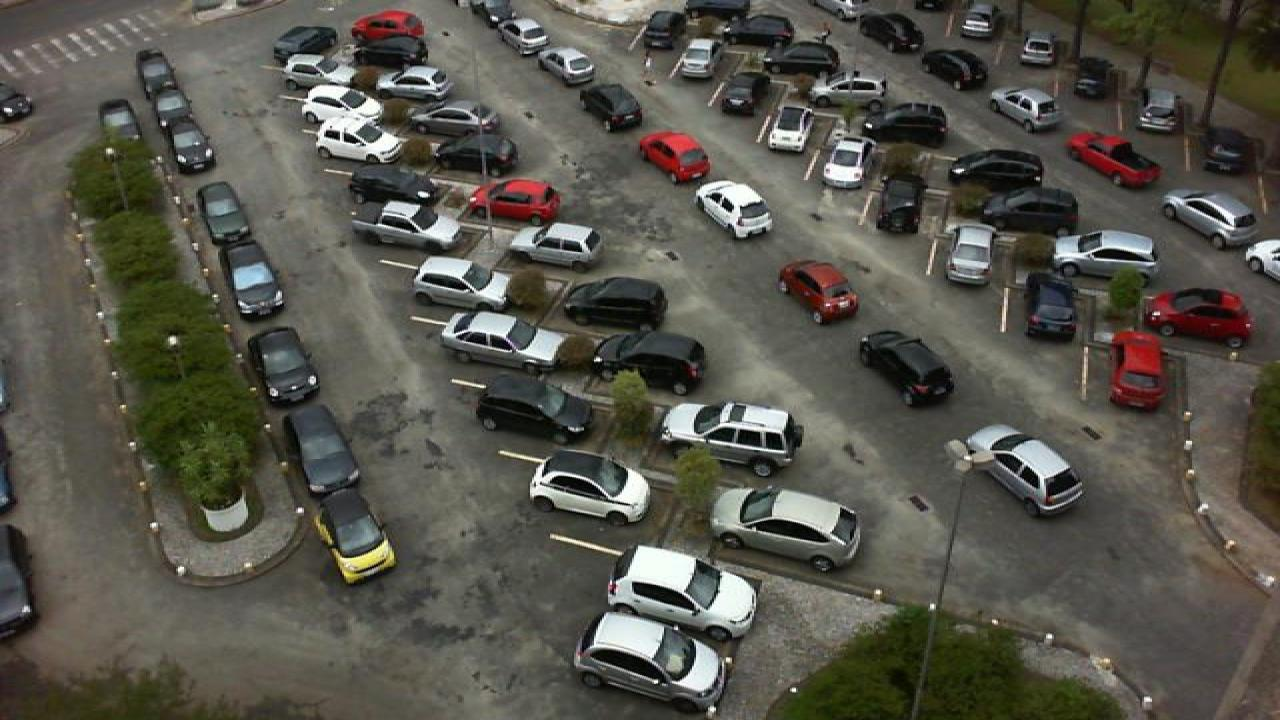Car: (572, 611, 730, 712), (604, 544, 760, 644), (708, 483, 862, 572), (964, 423, 1086, 517), (658, 402, 804, 476), (528, 450, 650, 525), (474, 374, 598, 446), (316, 487, 398, 585), (856, 328, 956, 408), (438, 310, 564, 373), (590, 331, 706, 396), (286, 402, 362, 492), (1142, 287, 1252, 349), (348, 198, 462, 251), (246, 326, 322, 405), (560, 276, 668, 330), (1160, 190, 1258, 248), (410, 254, 510, 310), (978, 184, 1078, 239), (1052, 231, 1158, 282), (1064, 132, 1162, 186), (1108, 328, 1168, 410), (224, 243, 288, 318), (470, 176, 562, 228), (314, 115, 406, 164), (508, 222, 602, 266), (948, 149, 1046, 190), (1024, 272, 1080, 342), (436, 132, 520, 178), (194, 180, 254, 244), (348, 162, 434, 205), (862, 101, 950, 143), (300, 86, 382, 128), (406, 98, 496, 136), (944, 224, 998, 284), (986, 87, 1060, 130), (872, 173, 924, 234), (814, 71, 890, 112), (370, 63, 454, 100), (166, 109, 216, 171), (1200, 127, 1260, 178), (760, 40, 842, 77), (818, 137, 876, 189), (920, 48, 990, 90), (858, 12, 924, 54), (764, 103, 818, 152), (150, 79, 198, 129), (354, 35, 428, 67), (538, 45, 596, 85), (274, 26, 338, 61), (284, 55, 346, 91), (1134, 82, 1176, 135), (350, 10, 426, 38), (504, 22, 556, 60), (1072, 56, 1116, 99), (732, 18, 810, 42), (134, 49, 176, 93), (674, 38, 716, 79), (720, 72, 760, 115), (644, 10, 686, 50), (960, 1, 1002, 41), (478, 1, 526, 35), (1020, 28, 1058, 69), (688, 0, 752, 22)
